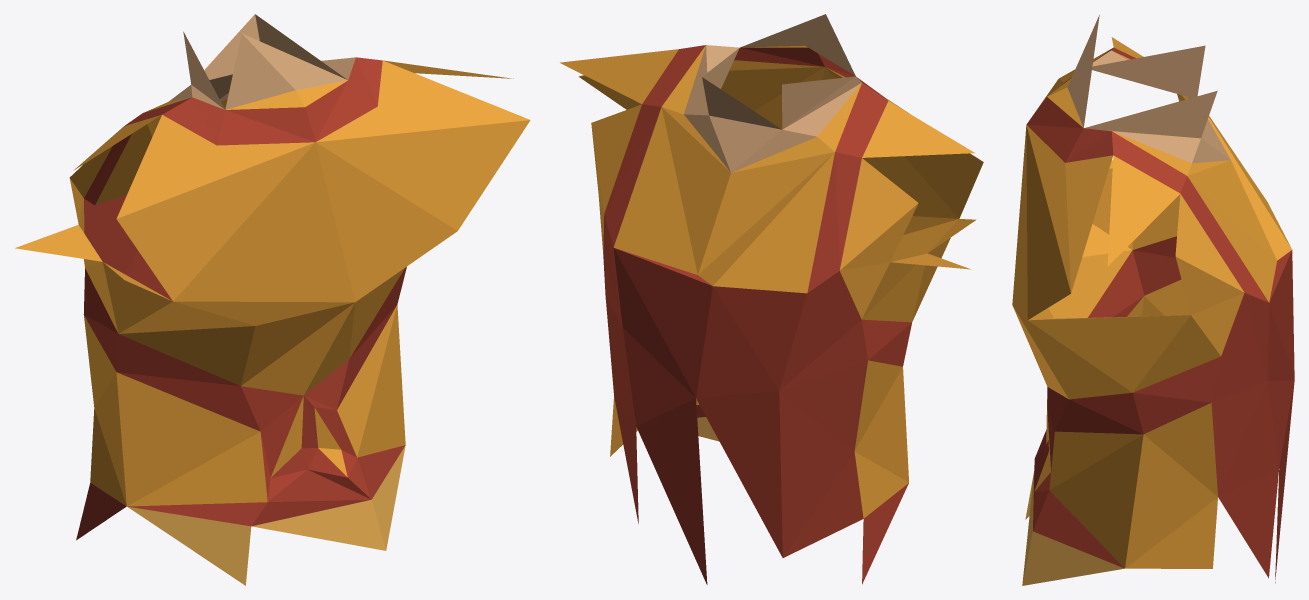
File: Torso.obj
3 views of the same model, side by side, from view 1: azimuth 30°, elevation 25°; view 2: azimuth 150°, elevation 25°; view 3: azimuth 270°, elevation 25° (orthographic). The views are drawn at different scales.
Size of the model in its own units: 0.5854 by 0.6552 by 0.3036.
1 material, 1 textured.
